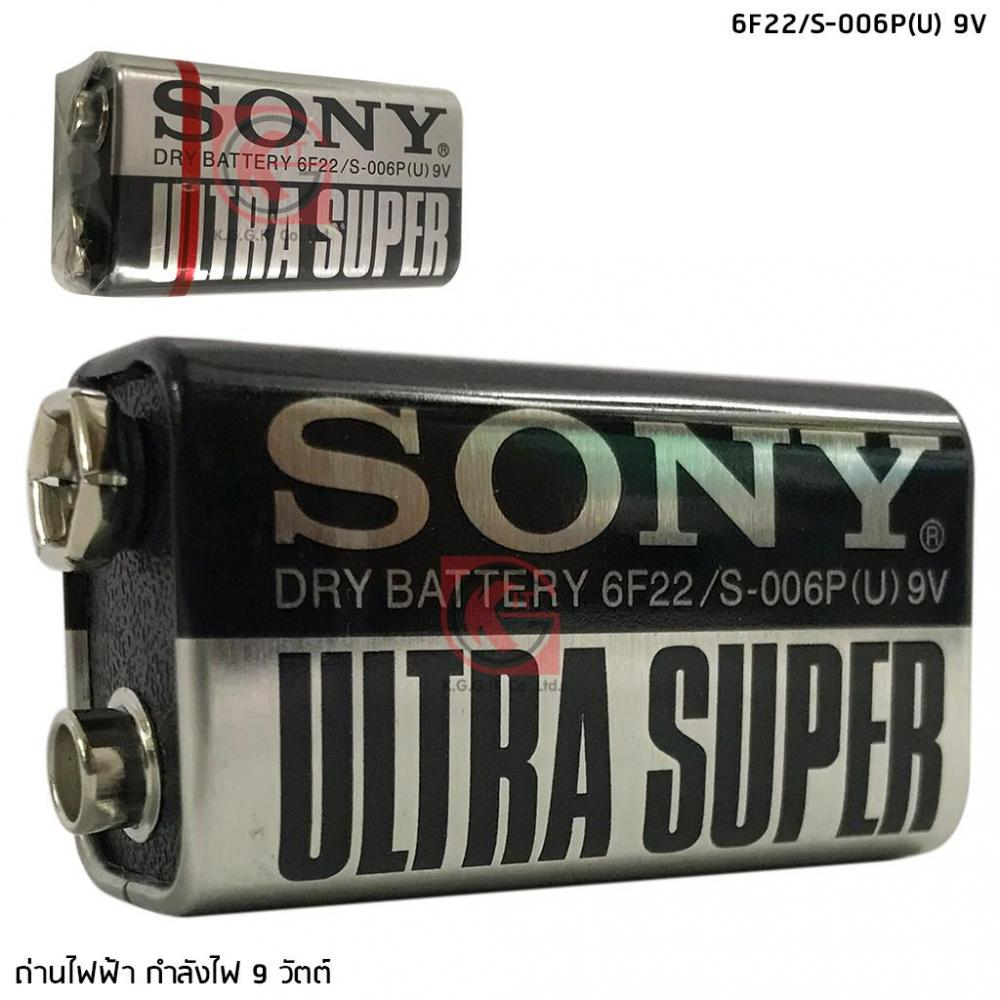Battery: (18, 326, 980, 921), (42, 45, 479, 307)
